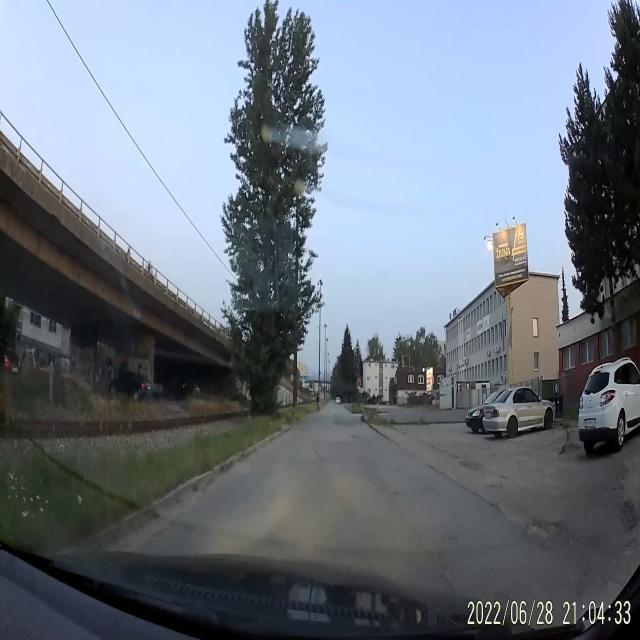Pothole: (520, 511, 566, 545)
